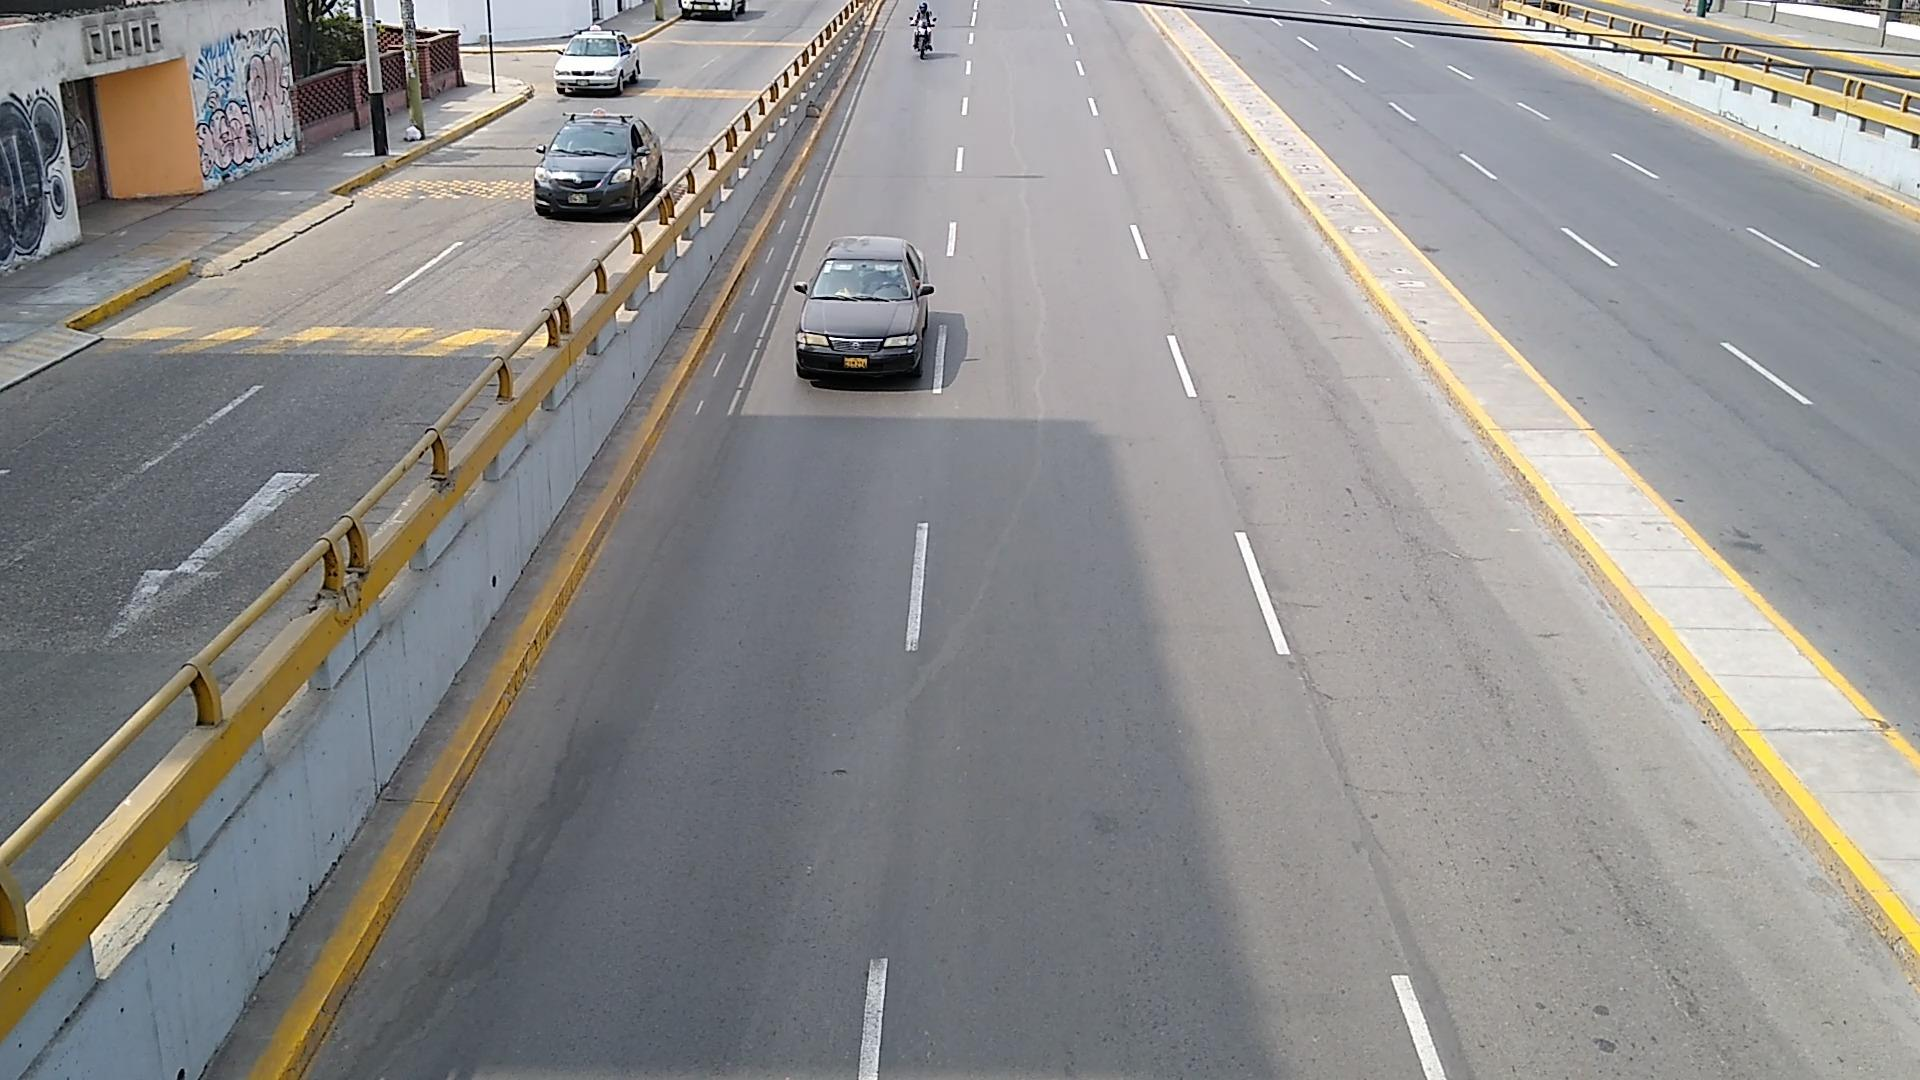car: (795, 236, 934, 378), (533, 112, 663, 218), (555, 30, 641, 94)
